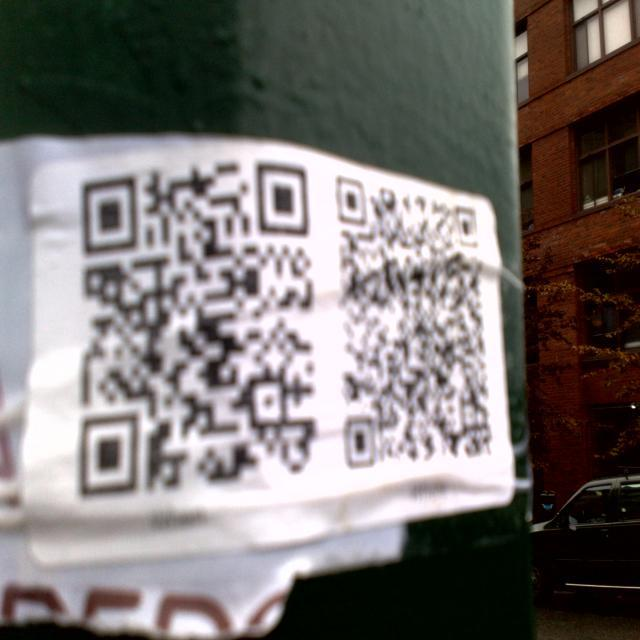qrcode: (82, 167, 317, 497), (340, 177, 490, 469)
